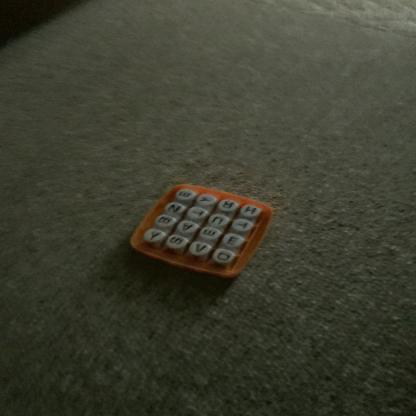a: (180, 222, 196, 234)
b: (157, 216, 175, 227)
e: (202, 229, 221, 240), (226, 235, 241, 248), (178, 190, 193, 200)
h: (244, 205, 259, 217)
n: (167, 203, 185, 215)
o: (216, 250, 233, 263)
r: (221, 200, 237, 212)
s: (169, 236, 187, 248)
t: (190, 207, 207, 220), (234, 220, 252, 232)
u: (211, 215, 226, 227)
v: (192, 242, 210, 256)
y: (146, 230, 165, 243), (198, 195, 216, 206)
